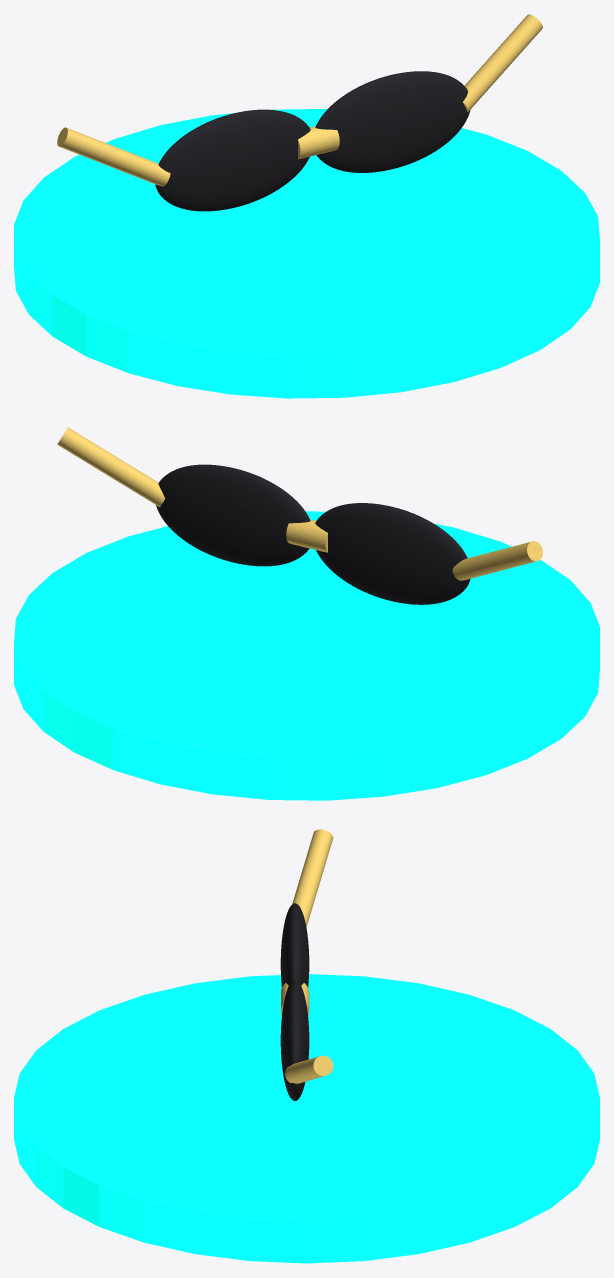
Rendered from fashion_sunglasses.glb.
The picture shows the model from 3 angles, top to bottom: view 1: azimuth 30°, elevation 25°; view 2: azimuth 150°, elevation 25°; view 3: azimuth 270°, elevation 25°; orthographic projection.
Visible parts, largest first — view 1: 06_04_Popular_Fashion_Sunglasses_ROOT_base, 06_04_Popular_Fashion_Sunglasses_part_01, 06_04_Popular_Fashion_Sunglasses_part_02, 06_04_Popular_Fashion_Sunglasses_part_04, 06_04_Popular_Fashion_Sunglasses_part_05, 06_04_Popular_Fashion_Sunglasses_part_03; view 2: 06_04_Popular_Fashion_Sunglasses_ROOT_base, 06_04_Popular_Fashion_Sunglasses_part_01, 06_04_Popular_Fashion_Sunglasses_part_02, 06_04_Popular_Fashion_Sunglasses_part_05, 06_04_Popular_Fashion_Sunglasses_part_04, 06_04_Popular_Fashion_Sunglasses_part_03; view 3: 06_04_Popular_Fashion_Sunglasses_ROOT_base, 06_04_Popular_Fashion_Sunglasses_part_02, 06_04_Popular_Fashion_Sunglasses_part_01, 06_04_Popular_Fashion_Sunglasses_part_04, 06_04_Popular_Fashion_Sunglasses_part_05.
Part boxes in pixels (left/top/right/bottom): 06_04_Popular_Fashion_Sunglasses_ROOT_base: left=14, top=109, right=599, bottom=398; 06_04_Popular_Fashion_Sunglasses_part_01: left=155, top=109, right=310, bottom=211; 06_04_Popular_Fashion_Sunglasses_part_02: left=315, top=71, right=470, bottom=172; 06_04_Popular_Fashion_Sunglasses_part_04: left=57, top=127, right=170, bottom=186; 06_04_Popular_Fashion_Sunglasses_part_05: left=463, top=14, right=542, bottom=111; 06_04_Popular_Fashion_Sunglasses_part_03: left=298, top=126, right=339, bottom=159; 06_04_Popular_Fashion_Sunglasses_ROOT_base: left=14, top=511, right=599, bottom=800; 06_04_Popular_Fashion_Sunglasses_part_01: left=315, top=503, right=470, bottom=604; 06_04_Popular_Fashion_Sunglasses_part_02: left=156, top=464, right=310, bottom=566; 06_04_Popular_Fashion_Sunglasses_part_05: left=57, top=427, right=164, bottom=506; 06_04_Popular_Fashion_Sunglasses_part_04: left=452, top=541, right=542, bottom=580; 06_04_Popular_Fashion_Sunglasses_part_03: left=286, top=519, right=327, bottom=552; 06_04_Popular_Fashion_Sunglasses_ROOT_base: left=14, top=974, right=599, bottom=1263; 06_04_Popular_Fashion_Sunglasses_part_02: left=280, top=980, right=309, bottom=1100; 06_04_Popular_Fashion_Sunglasses_part_01: left=280, top=903, right=309, bottom=987; 06_04_Popular_Fashion_Sunglasses_part_04: left=292, top=829, right=333, bottom=927; 06_04_Popular_Fashion_Sunglasses_part_05: left=285, top=1055, right=333, bottom=1083.
Size of the model in its own units: 0.76 by 0.282 by 0.76.
